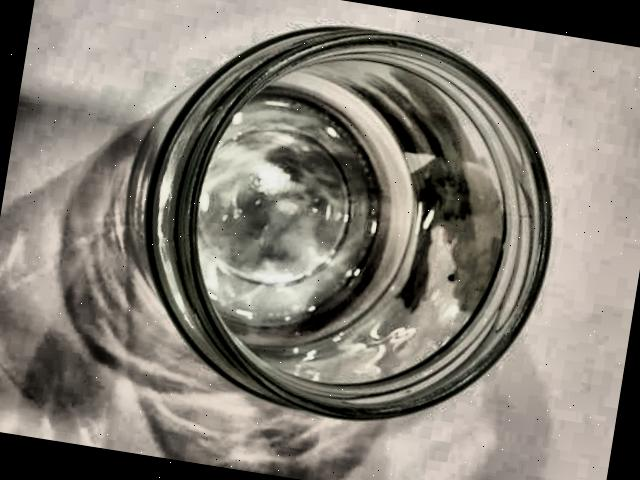Bottles: (87, 0, 608, 460)
